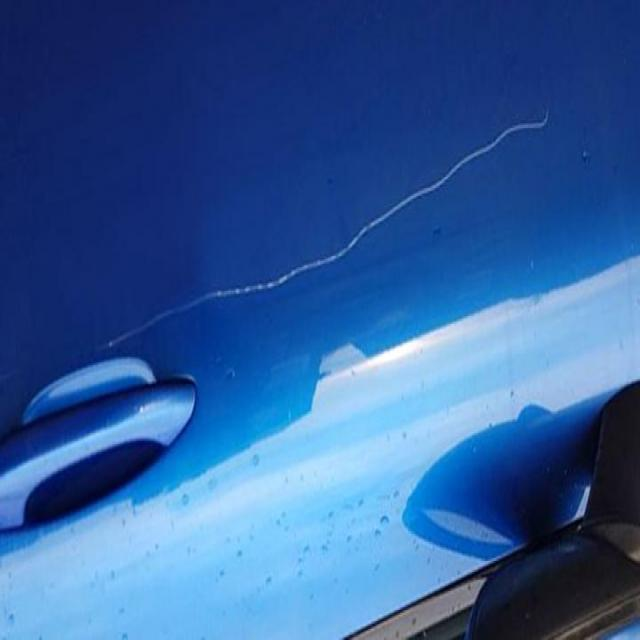scratch: (91, 95, 558, 382)
